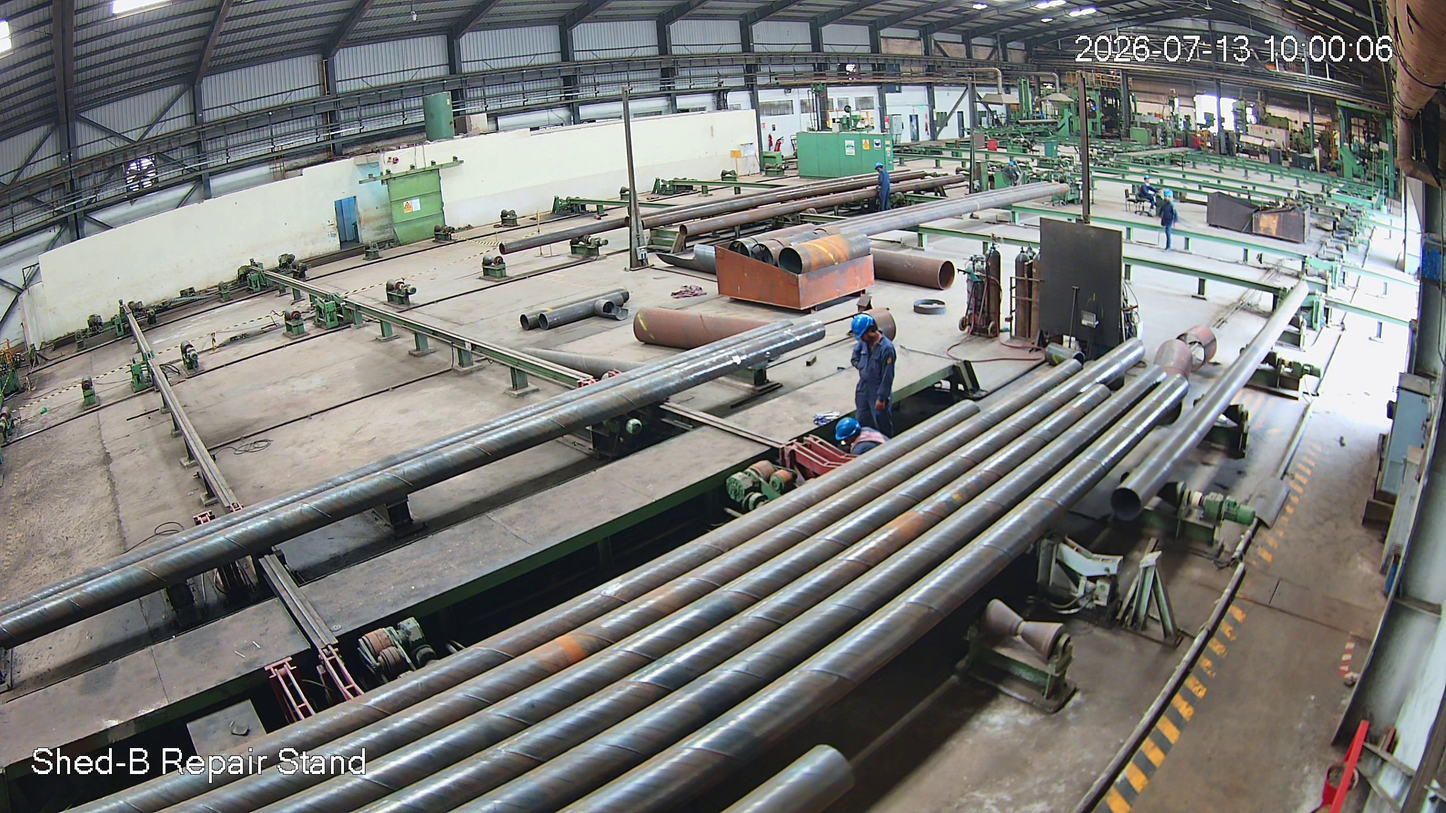Helmet: (849, 313, 880, 351), (833, 414, 863, 445), (1162, 190, 1176, 203)
Person: (849, 314, 896, 438), (829, 416, 897, 460), (1159, 190, 1177, 253)
